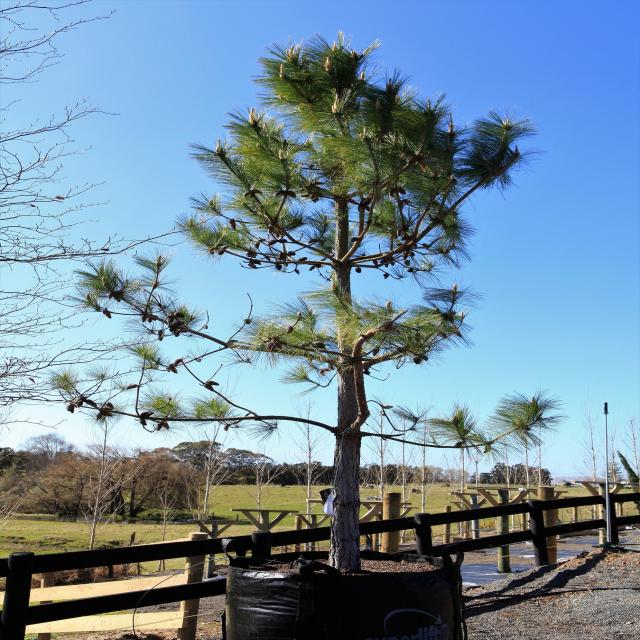Pinus Thunbergii: (62, 39, 560, 565)
